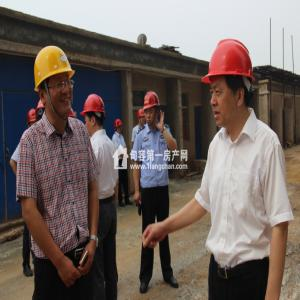red: (208, 37, 257, 132), (84, 94, 105, 135), (144, 91, 161, 127), (28, 110, 38, 129), (138, 109, 146, 126), (115, 119, 123, 135)
yellow: (33, 45, 77, 122)
